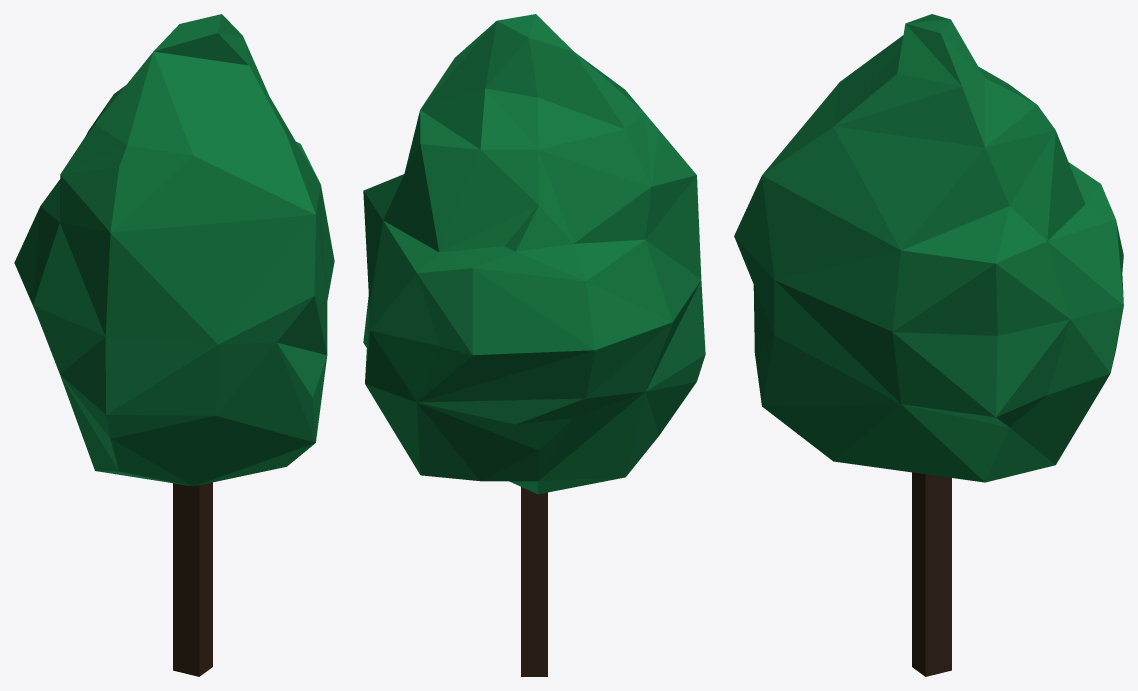
Rendered from tree1.fbx.
The picture shows the model from 3 angles, left to right: view 1: azimuth 30°, elevation 25°; view 2: azimuth 150°, elevation 25°; view 3: azimuth 270°, elevation 25°; orthographic projection.
Visible parts, largest first — view 1: Box017; view 2: Box017; view 3: Box017.
Part boxes in pixels (box(x1,y1,x2,y2)): Box017: box(14, 14, 334, 676); Box017: box(363, 14, 705, 676); Box017: box(734, 14, 1123, 676).
Size of the model in its own units: 7.95 by 16.96 by 9.19.
